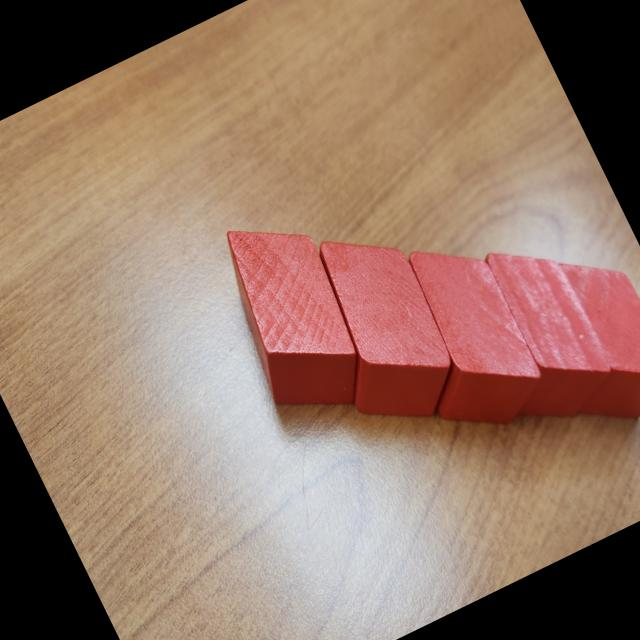red: (197, 198, 386, 435), (284, 212, 474, 446), (368, 222, 556, 451), (448, 225, 624, 440), (514, 234, 640, 441)
